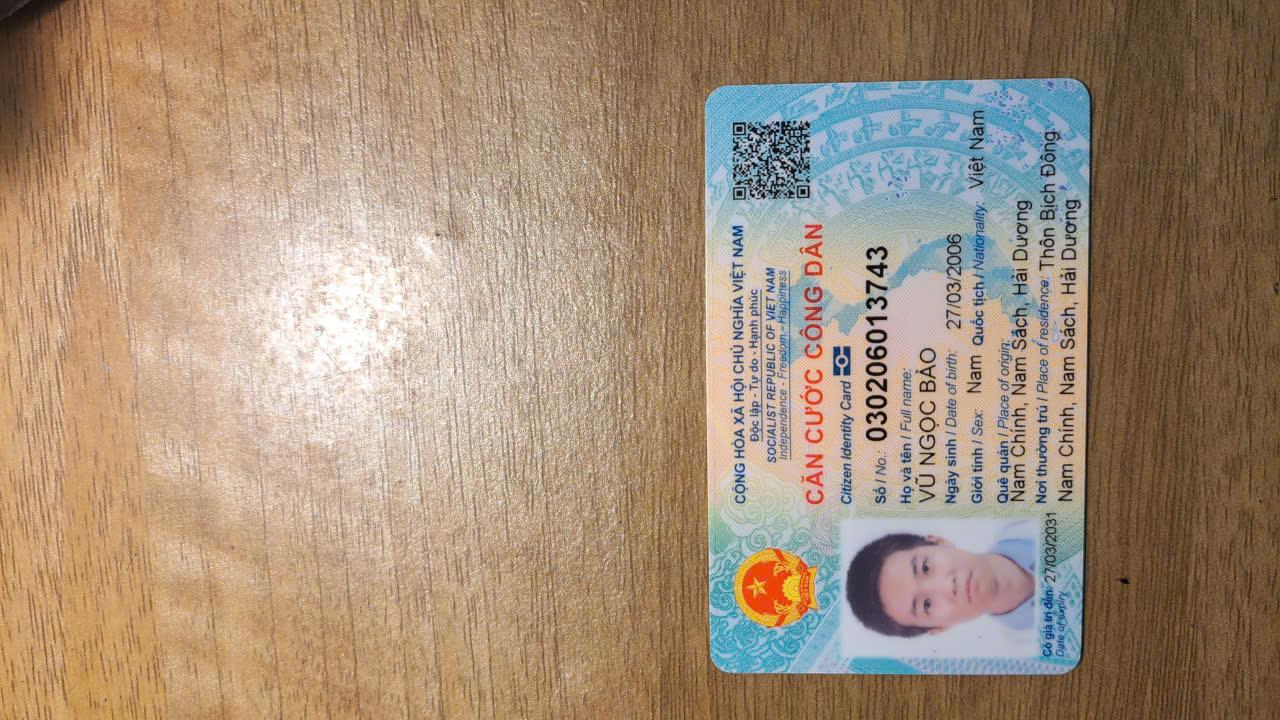cccd: (699, 76, 1093, 678)
